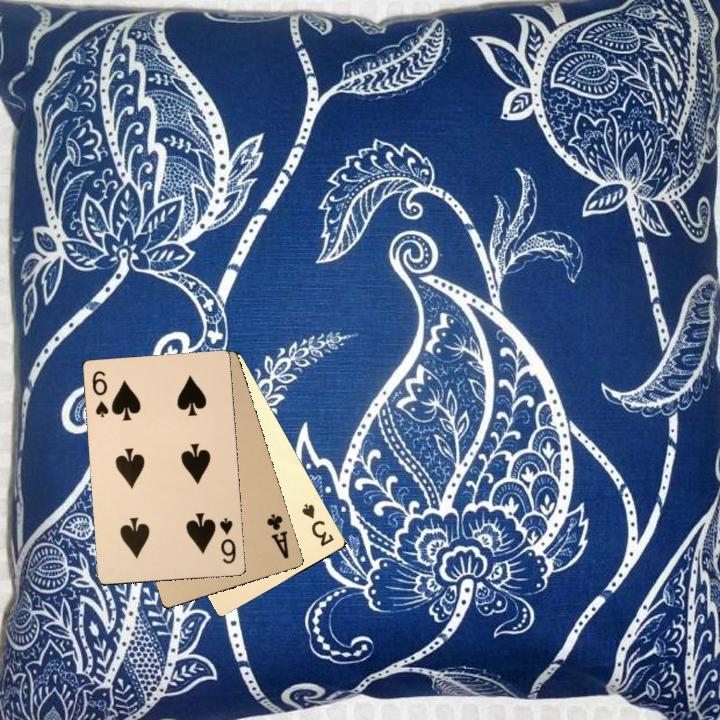3s: (297, 499, 336, 549)
6s: (215, 514, 239, 566), (88, 366, 111, 420)
Ac: (262, 509, 291, 561)
